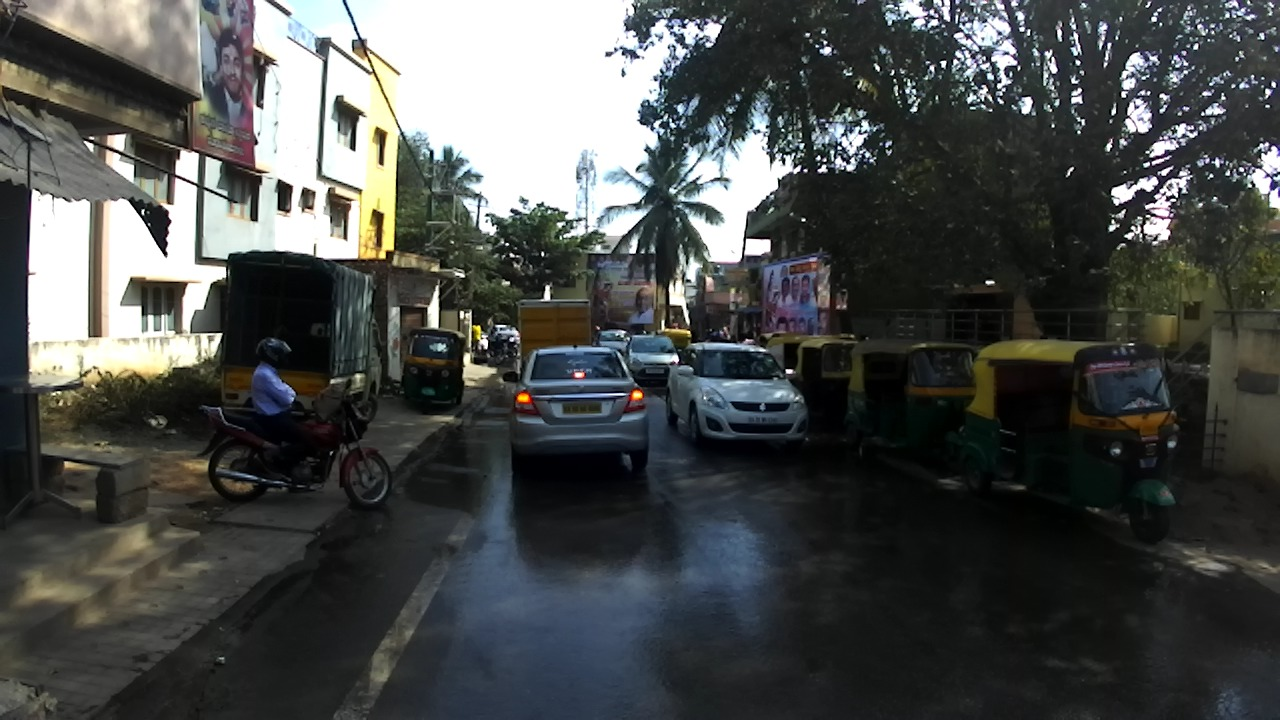autorickshaw: (961, 338, 1182, 544), (849, 337, 982, 470), (792, 339, 869, 432), (401, 328, 466, 412), (767, 334, 855, 378), (657, 329, 690, 362)
car: (503, 344, 651, 472), (665, 343, 809, 451), (623, 335, 683, 388), (595, 331, 628, 353), (610, 330, 631, 343)
motorcycle: (196, 375, 393, 507), (497, 335, 518, 358), (487, 345, 508, 362), (477, 336, 489, 352)
person: (473, 320, 482, 352), (736, 331, 753, 345), (702, 328, 716, 342), (718, 327, 731, 341), (859, 332, 870, 342), (737, 333, 747, 343)
rider: (250, 339, 314, 477), (593, 325, 601, 345), (691, 331, 701, 344), (639, 330, 646, 336)
truck: (219, 249, 385, 425), (518, 299, 591, 371)
vehicle fallback: (757, 332, 786, 347), (489, 324, 511, 342)
